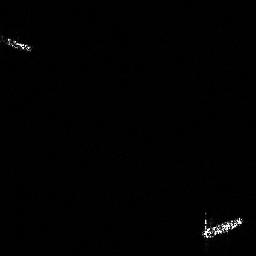ship: (198, 205, 247, 244), (1, 33, 34, 55)
